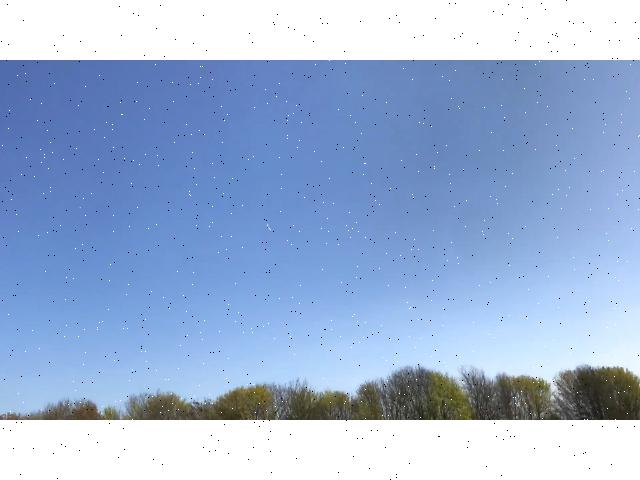Anti-Drone: (259, 218, 279, 238)
